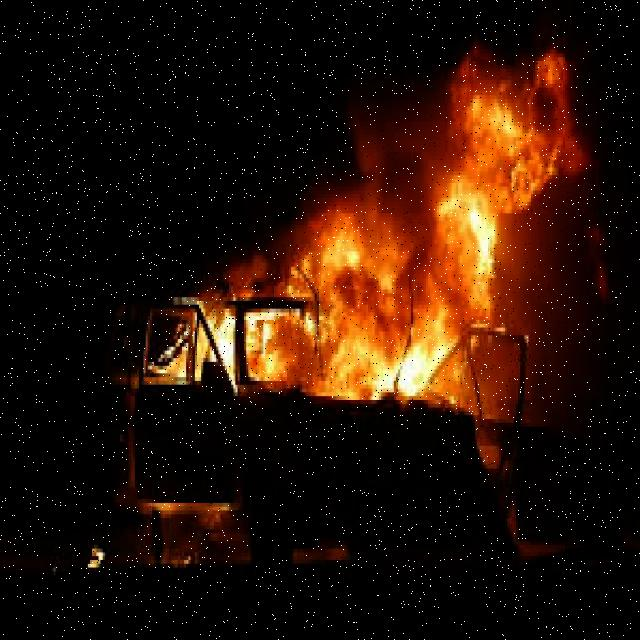fire: (184, 238, 503, 402)
